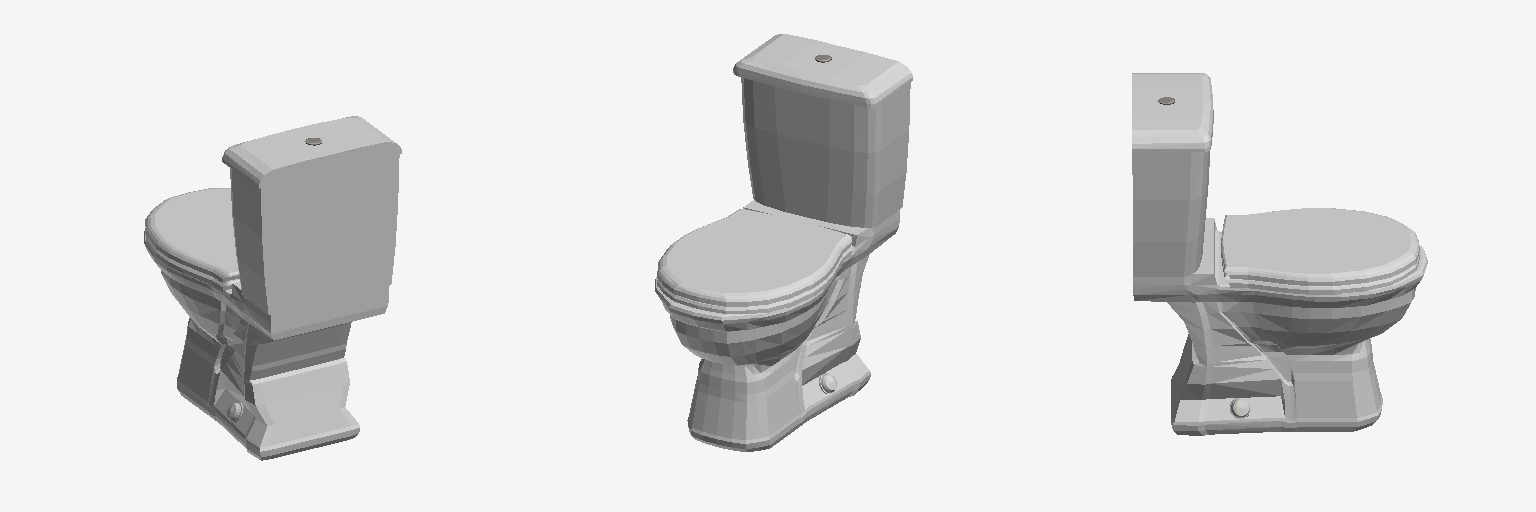
3 views of the same model, side by side, from view 1: azimuth 30°, elevation 25°; view 2: azimuth 150°, elevation 25°; view 3: azimuth 270°, elevation 25° (orthographic).
Parts seen in each view (by area): view 1: polySurface9 Toilet_Main; view 2: polySurface9 Toilet_Main; view 3: polySurface9 Toilet_Main.
Boxes of the visible parts, <box> form: polySurface9 Toilet_Main: <box>144,116,401,460</box>; polySurface9 Toilet_Main: <box>655,34,912,451</box>; polySurface9 Toilet_Main: <box>1132,73,1427,435</box>.
Bounding box in the file's own units: 1.54 × 3.17 × 2.71.
1 materials, 1 textured.